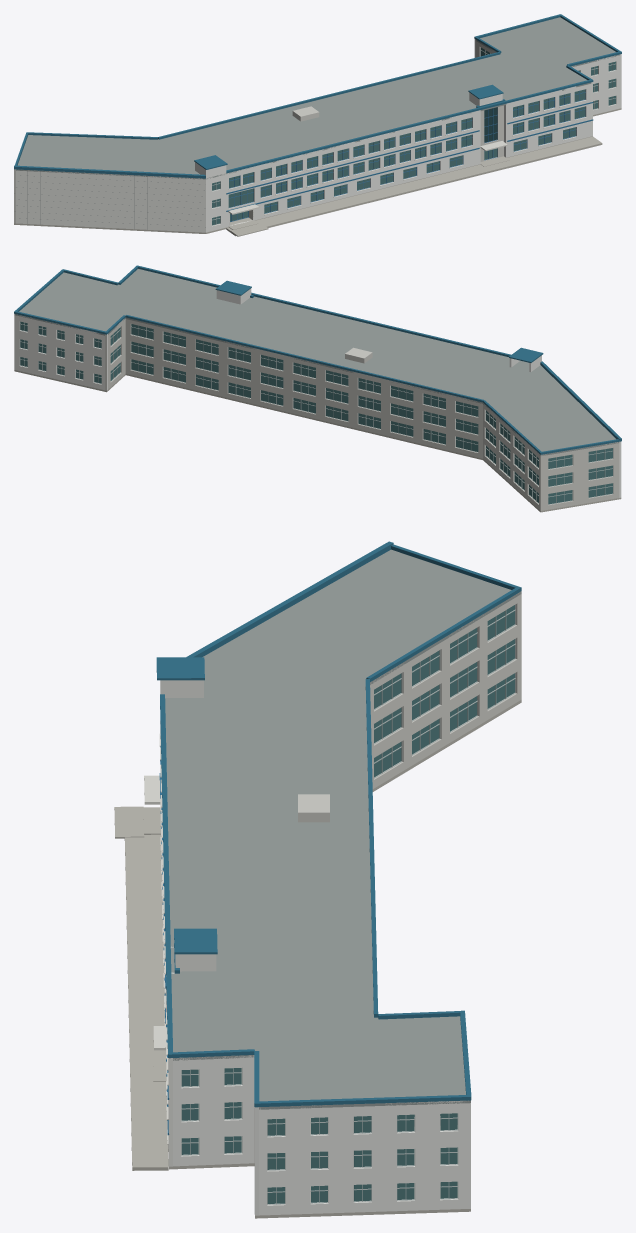
3 views of the same model, one above another, from view 1: azimuth 30°, elevation 25°; view 2: azimuth 150°, elevation 25°; view 3: azimuth 270°, elevation 25° (orthographic). The views are drawn at different scales.
Parts seen in each view (by area): view 1: n13-natsci1__main-low-roof, n13-natsci1__three-storey-main-white-wall, n13-natsci1__broad-blank-west-wing, n13-natsci1__main-paired-blue-frame-windows-glass, n13-natsci1__front-walkway-paving, n13-natsci1__main-paired-blue-frame-windows-frame, n13-natsci1__rear-blue-coping, n13-natsci1__east-end-white-mass, n13-natsci1__main-blue-roof-fascia, n13-natsci1__main-thin-blue-floor-lines, n13-natsci1__slim-raised-left-head, n13-natsci1__main-window-sills (+8 smaller); view 2: n13-natsci1__main-low-roof, n13-natsci1__rear-estimated-white-wall, n13-natsci1__rear-estimated-window-groups-glass, n13-natsci1__east-end-white-mass, n13-natsci1__rear-estimated-window-groups-frame, n13-natsci1__rear-blue-coping, n13-natsci1__osm-floor-slab, n13-natsci1__main-blue-roof-fascia, n13-natsci1__east-end-small-windows-glass, n13-natsci1__east-end-blue-fascia, n13-natsci1__west-wing-blue-fascia, n13-natsci1__east-end-small-windows-frame; view 3: n13-natsci1__main-low-roof, n13-natsci1__east-end-white-mass, n13-natsci1__front-walkway-paving, n13-natsci1__rear-estimated-white-wall, n13-natsci1__rear-estimated-window-groups-glass, n13-natsci1__east-end-small-windows-glass, n13-natsci1__rear-blue-coping, n13-natsci1__east-end-blue-fascia, n13-natsci1__rear-estimated-window-groups-frame, n13-natsci1__east-end-small-windows-frame, n13-natsci1__main-blue-roof-fascia, n13-natsci1__west-wing-blue-fascia (+6 smaller).
Boxes of the visible parts, x1,y1,x2,y2 form: n13-natsci1__main-low-roof: (16,17,619,179); n13-natsci1__three-storey-main-white-wall: (226,84,591,227); n13-natsci1__broad-blank-west-wing: (16,170,205,232); n13-natsci1__main-paired-blue-frame-windows-glass: (229,89,585,213); n13-natsci1__front-walkway-paving: (226,136,602,236); n13-natsci1__main-paired-blue-frame-windows-frame: (229,89,585,213); n13-natsci1__rear-blue-coping: (14,36,501,165); n13-natsci1__east-end-white-mass: (474,39,621,136); n13-natsci1__main-blue-roof-fascia: (226,79,593,173); n13-natsci1__main-thin-blue-floor-lines: (226,102,593,211); n13-natsci1__slim-raised-left-head: (204,165,226,232); n13-natsci1__main-window-sills: (229,100,586,215); n13-natsci1__main-low-roof: (14,269,619,455); n13-natsci1__rear-estimated-white-wall: (105,319,619,510); n13-natsci1__rear-estimated-window-groups-glass: (110,324,612,504); n13-natsci1__east-end-white-mass: (14,314,107,390); n13-natsci1__rear-estimated-window-groups-frame: (110,324,613,504); n13-natsci1__rear-blue-coping: (105,315,619,454); n13-natsci1__osm-floor-slab: (14,370,621,512); n13-natsci1__main-blue-roof-fascia: (136,265,511,356); n13-natsci1__east-end-small-windows-glass: (20,321,101,383); n13-natsci1__east-end-blue-fascia: (14,266,138,334); n13-natsci1__west-wing-blue-fascia: (540,361,621,441); n13-natsci1__east-end-small-windows-frame: (19,321,101,383); n13-natsci1__main-low-roof: (165,549,521,1109); n13-natsci1__east-end-white-mass: (168,1055,470,1215); n13-natsci1__front-walkway-paving: (124,807,168,1170); n13-natsci1__rear-estimated-white-wall: (370,591,521,1126); n13-natsci1__rear-estimated-window-groups-glass: (374,605,514,1116); n13-natsci1__east-end-small-windows-glass: (181,1068,457,1203); n13-natsci1__rear-blue-coping: (365,544,521,1019); n13-natsci1__east-end-blue-fascia: (168,1010,471,1107); n13-natsci1__rear-estimated-window-groups-frame: (374,604,515,1117); n13-natsci1__east-end-small-windows-frame: (181,1068,458,1204); n13-natsci1__main-blue-roof-fascia: (160,694,173,1057); n13-natsci1__west-wing-blue-fascia: (186,541,393,657).
Bounding box in the file's own units: 123 × 13.62 × 37.8.
